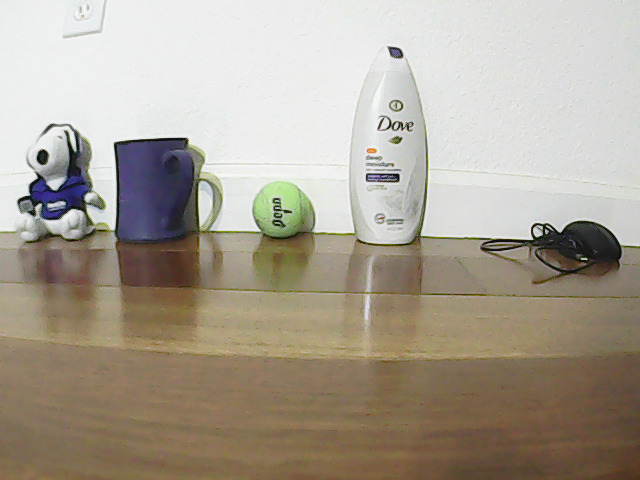ball: (249, 178, 307, 247)
mouse: (557, 218, 626, 268)
mug: (115, 131, 195, 246)
snoopy: (22, 107, 98, 245)
soap: (362, 38, 429, 250)
